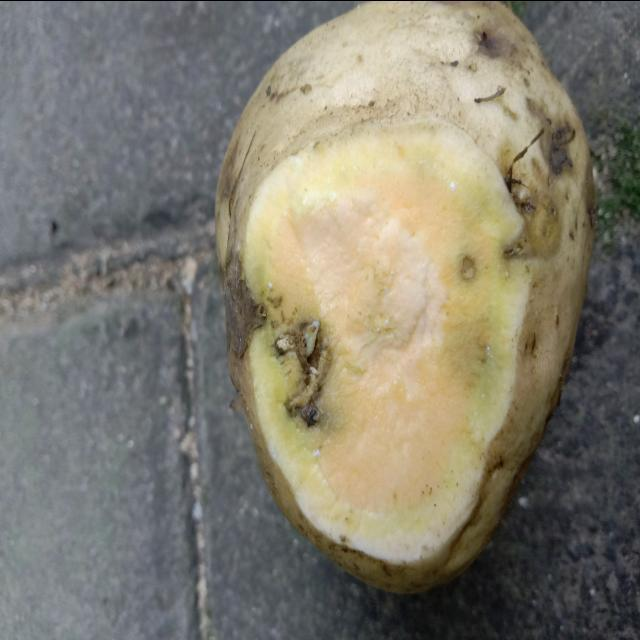Sick Sweet Potato_Tuber Rot: (244, 123, 529, 562)
